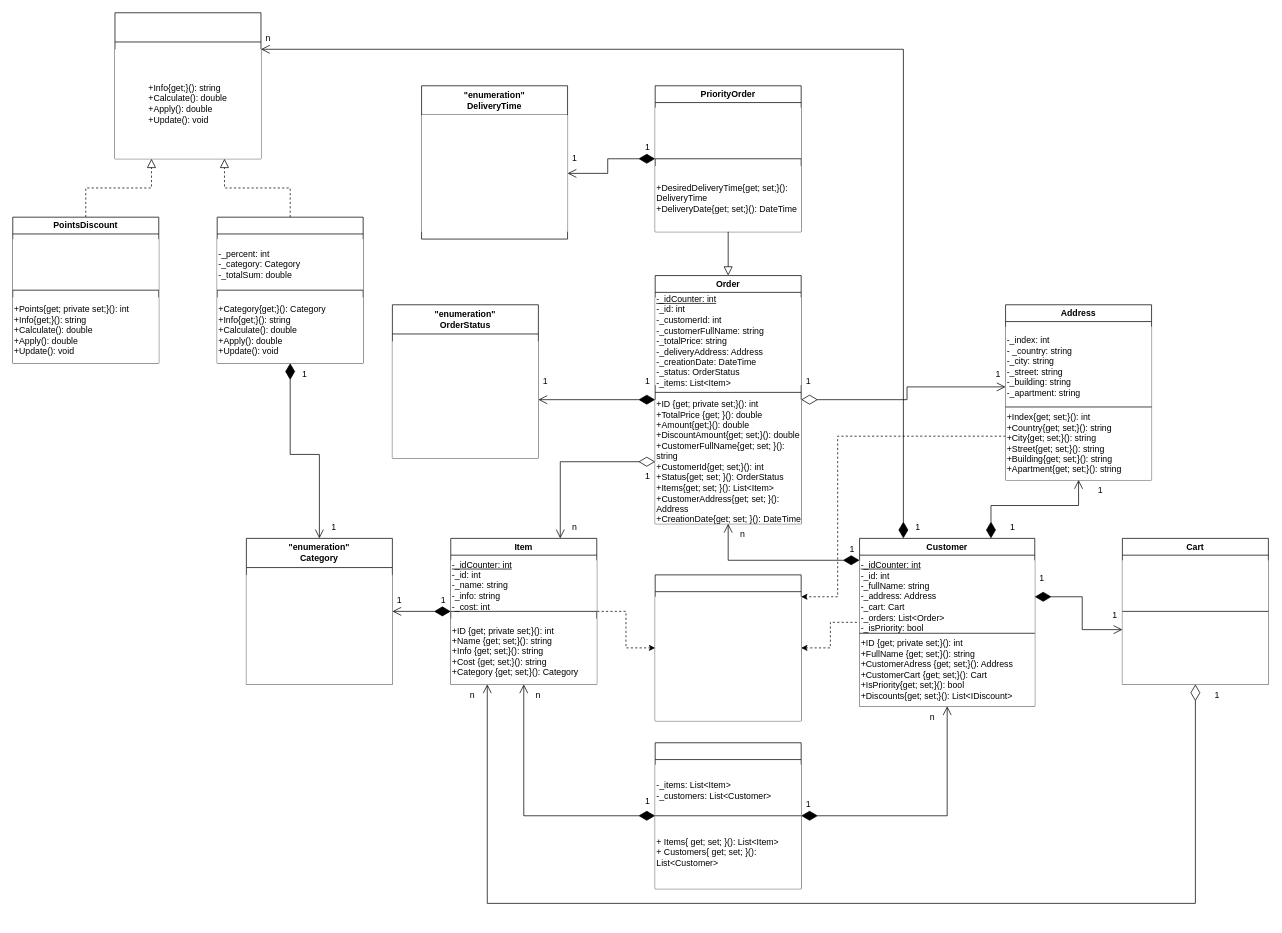
This 1282x933 diagram has some shape labels left out. Each missing label, with the box of its shape:
"Interface" IDiscount: (114, 12, 261, 159)
+ Items{ get; set; }(): List<Item> + Amount{ get; }(): float: (1122, 611, 1268, 684)
+AssertStringOnLength(string, int, string): void: (655, 596, 801, 721)
-_deliveryTime: DeliveryTime -_deliveryDate: DateTime: (655, 107, 801, 158)
-_items: List<Item>: (1122, 560, 1268, 611)
-_points: int: (12, 239, 158, 290)
Food, Clothes, Boots, Toys, Electronics, Accessories, Books: (246, 575, 392, 684)
Morning, Lunch, Afternoon, Evening, LateEvening, Night: (421, 115, 567, 231)
New, Proccessing, Assembly, Sent, Delivered, Returned, Abandoned: (392, 341, 538, 458)
PercentDiscount: (216, 216, 363, 363)
Store: (654, 742, 801, 889)
ValueValidator: (654, 574, 801, 721)
